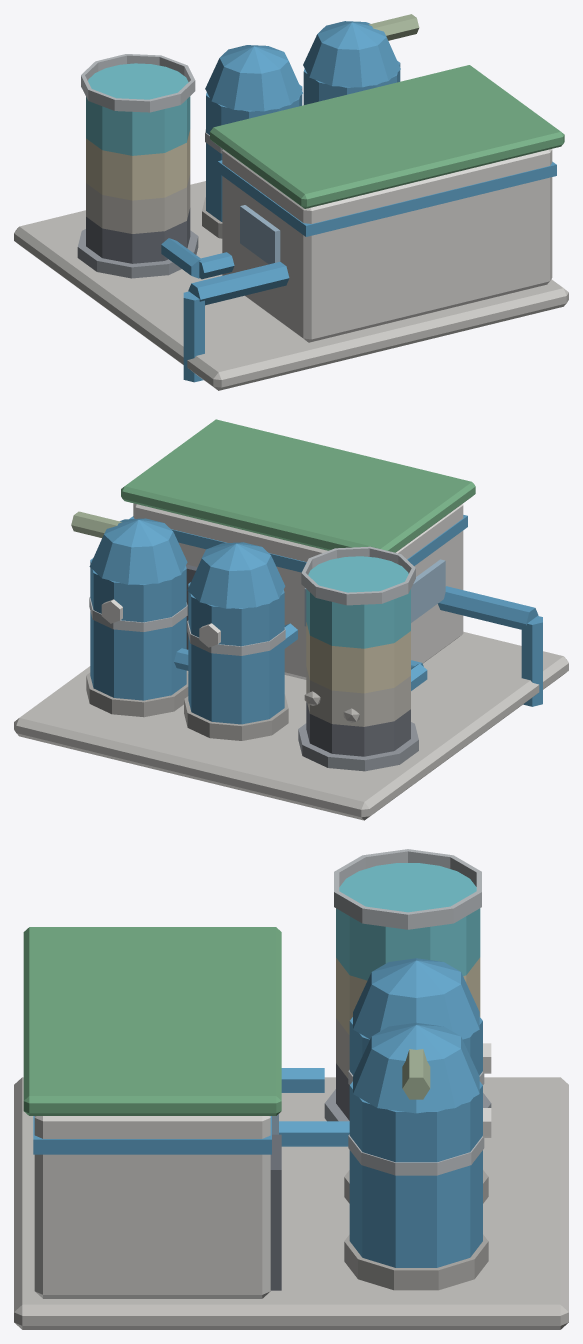
File: agua__estacao_filtragem.glb
3 views of the same model, one above another, from view 1: azimuth 30°, elevation 25°; view 2: azimuth 150°, elevation 25°; view 3: azimuth 270°, elevation 25° (orthographic). The views are drawn at different scales.
Visible parts, largest first — view 1: agua__estacao_filtragem; view 2: agua__estacao_filtragem; view 3: agua__estacao_filtragem.
Part boxes in pixels (box(x1,y1,x2,y2)): agua__estacao_filtragem: box(14, 14, 568, 390); agua__estacao_filtragem: box(14, 419, 568, 820); agua__estacao_filtragem: box(14, 849, 568, 1329).
Bounding box in the file's own units: 2.01 × 1.08 × 2.
